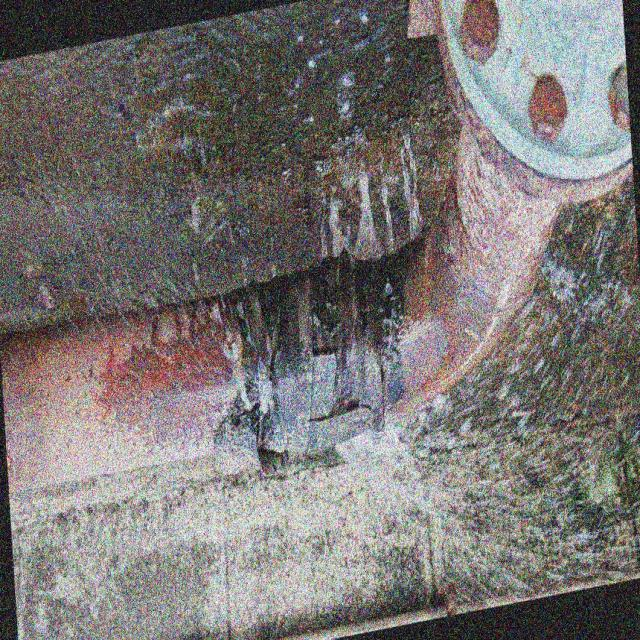Leak: (310, 351, 424, 511)
